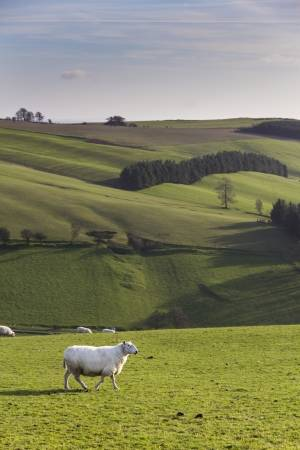sheep: (59, 338, 141, 391), (1, 321, 17, 340), (76, 323, 93, 335), (101, 327, 117, 334)
